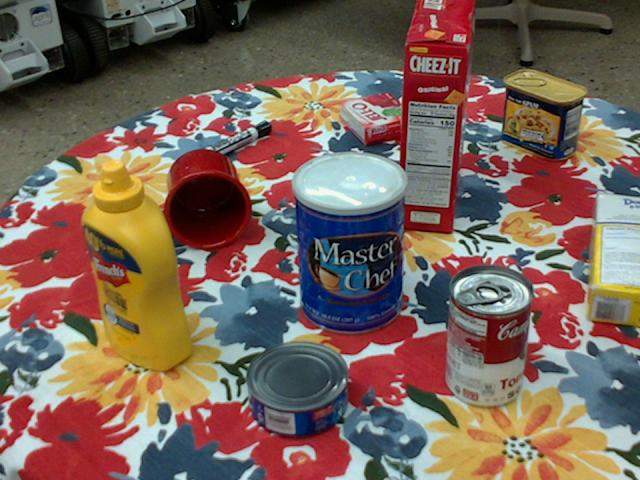cracker_box: (398, 0, 475, 232)
gelatin_box: (337, 92, 415, 145)
large_marker: (194, 119, 269, 164)
master_chef_can: (291, 151, 405, 336)
mug: (149, 148, 252, 251)
mustard_bottle: (80, 160, 193, 370)
potted_meat_can: (501, 68, 587, 159)
sugar_box: (586, 193, 639, 326)
tomato_soup_can: (446, 263, 533, 407)
tuna_fish_can: (242, 340, 345, 437)
